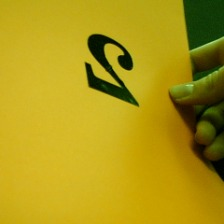orange2: (75, 32, 147, 110)
